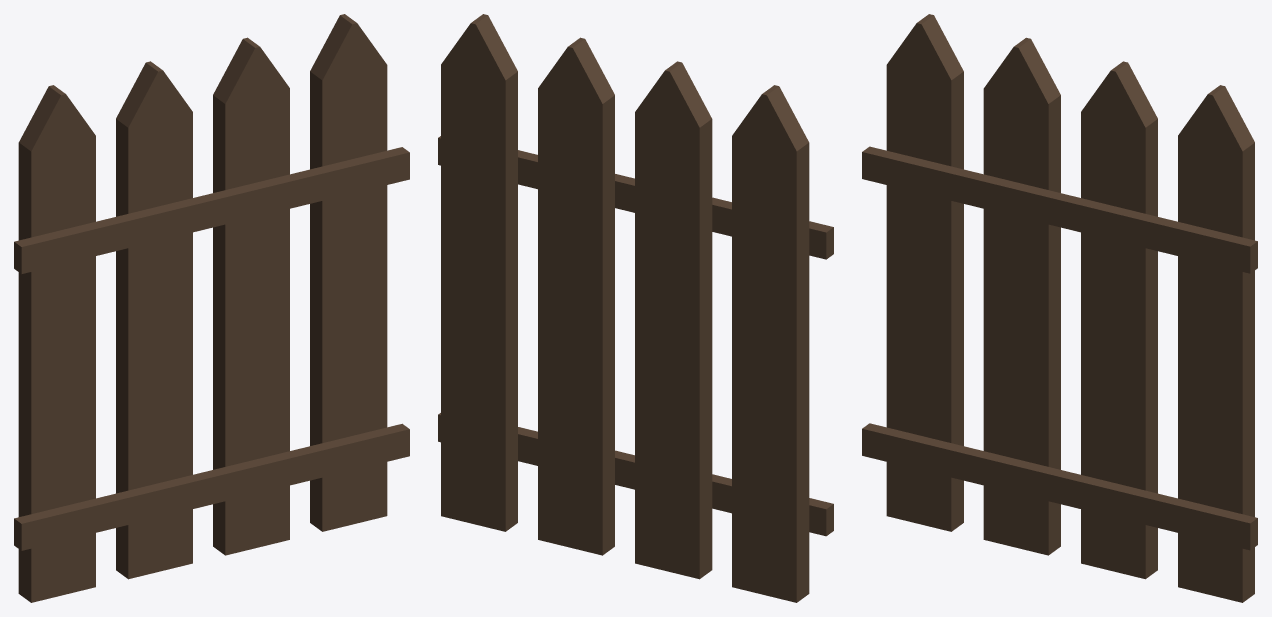
File: Props_Fence.glb
3 renders of one model, left to right at view 1: azimuth 30°, elevation 25°; view 2: azimuth 150°, elevation 25°; view 3: azimuth 330°, elevation 25°, orthographic.
Visible parts, largest first — view 1: Props_Fence; view 2: Props_Fence; view 3: Props_Fence.
Boxes of the visible parts, x1,y1,x2,y2 form: Props_Fence: (14, 14, 409, 602); Props_Fence: (438, 14, 833, 602); Props_Fence: (862, 14, 1257, 602).
Size of the model in its own units: 1.8 by 2.22 by 0.16.
1 material, 1 textured.
